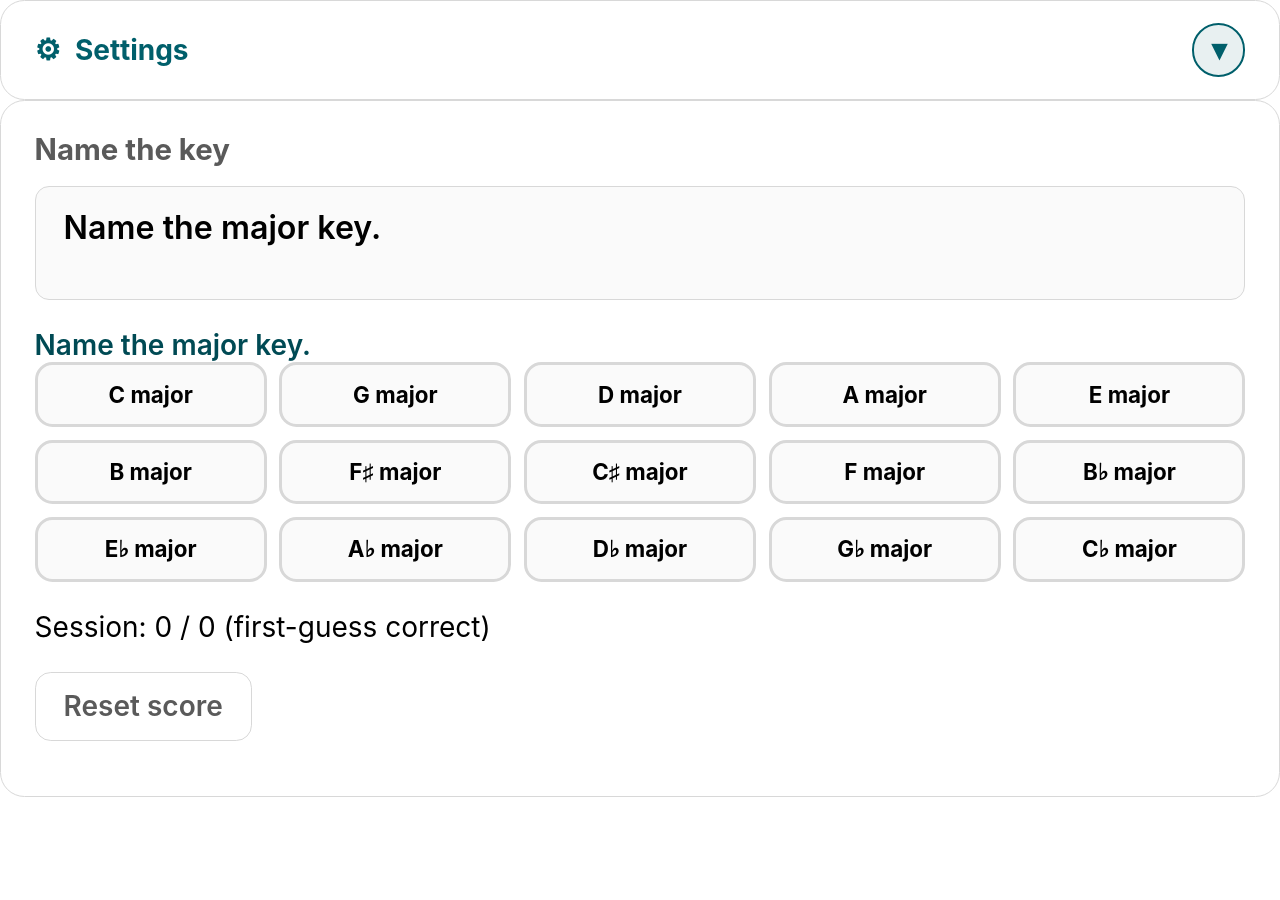
it: KeySignaturesTopic — first-guess scoring (docs/15-theory-topics/02 §6) › counts a wrong-then-right answer as total+1, correct+0 (only first guess scores)
The image size is (1280, 900).
Click the button "G major". click: (395, 395)
box: [279,362,511,427]
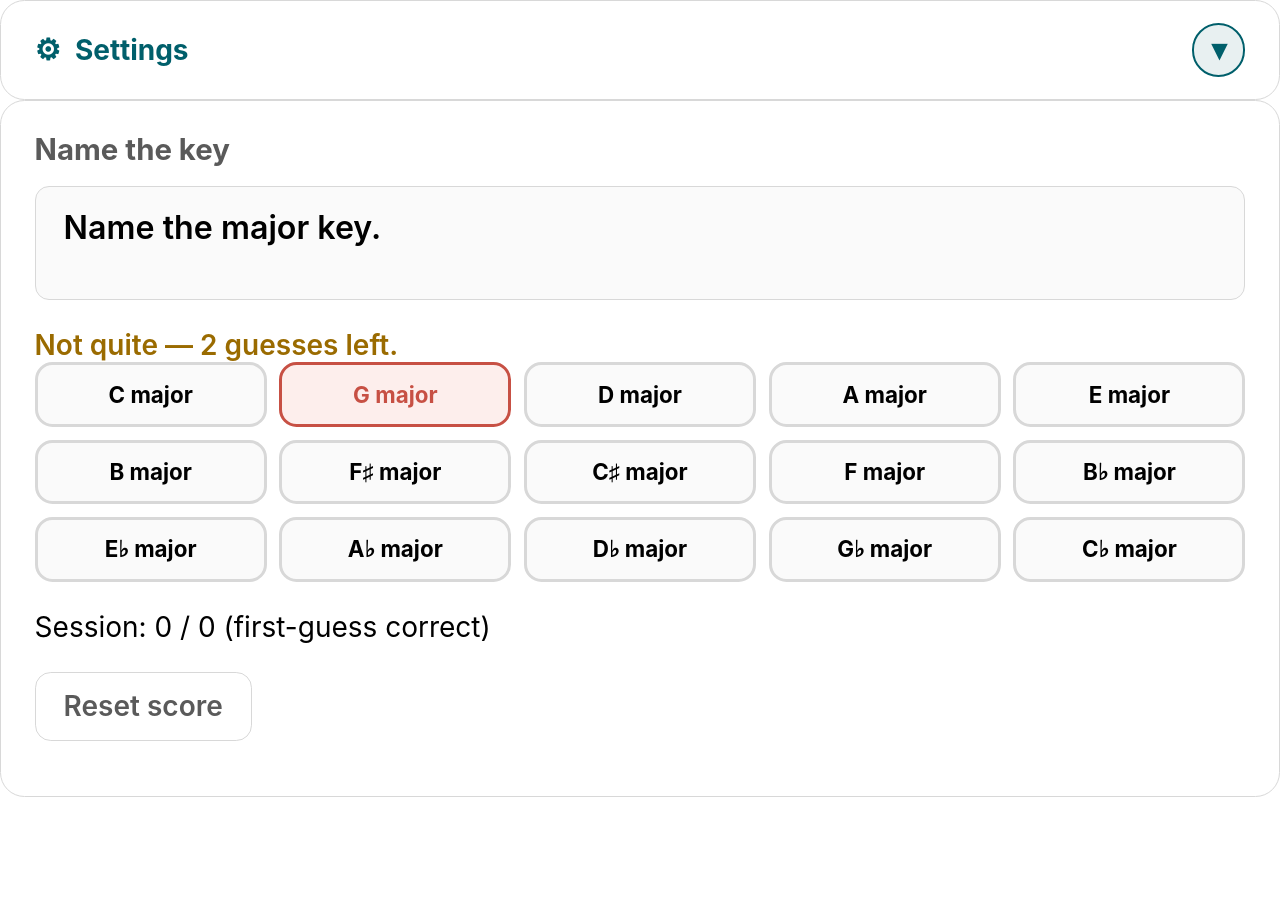
Click the button "C major". click: (151, 395)
box: [35,362,267,427]
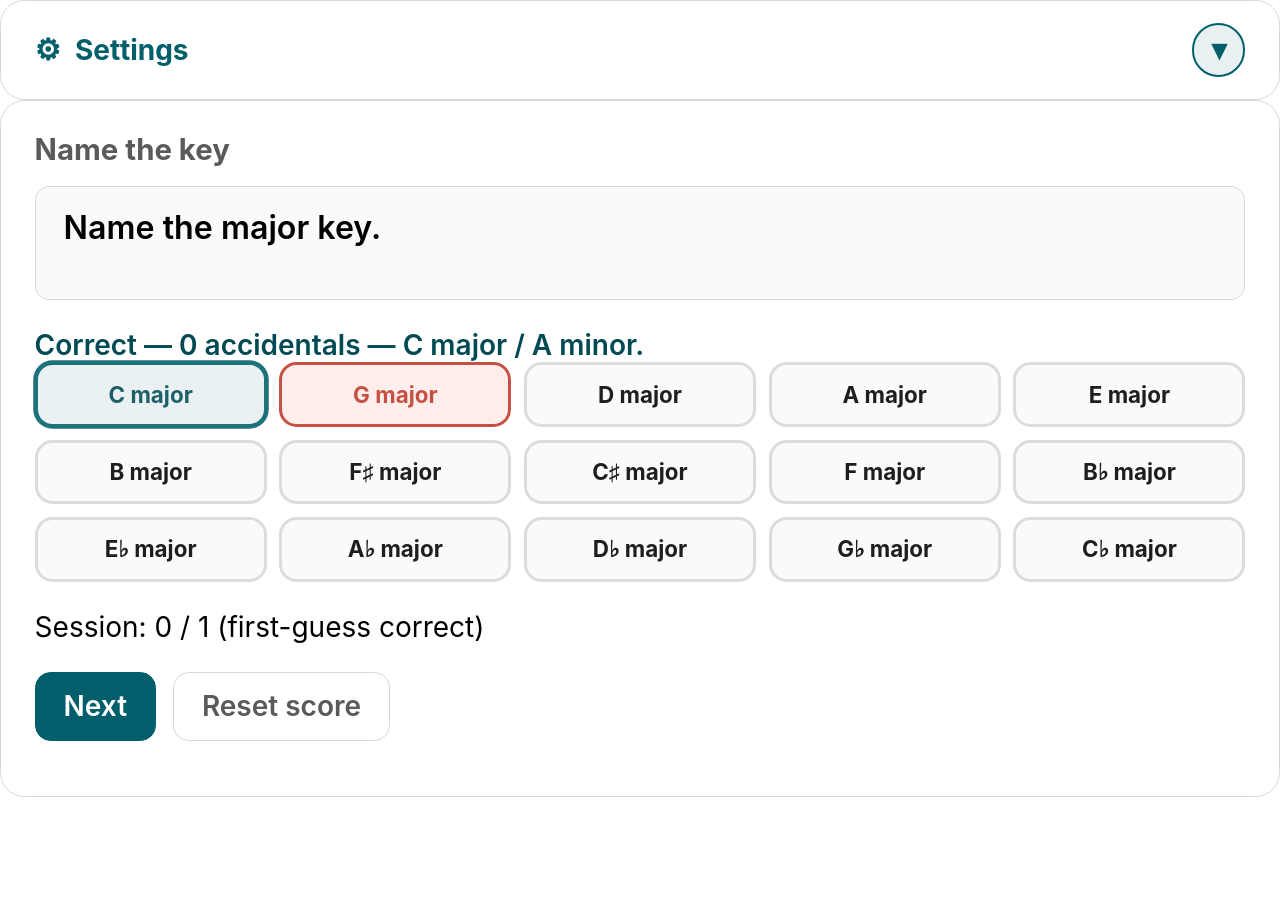
Expected: the text "Session: 0 / 1 (first-guess correct)" is shown, [35,610,484,644]
